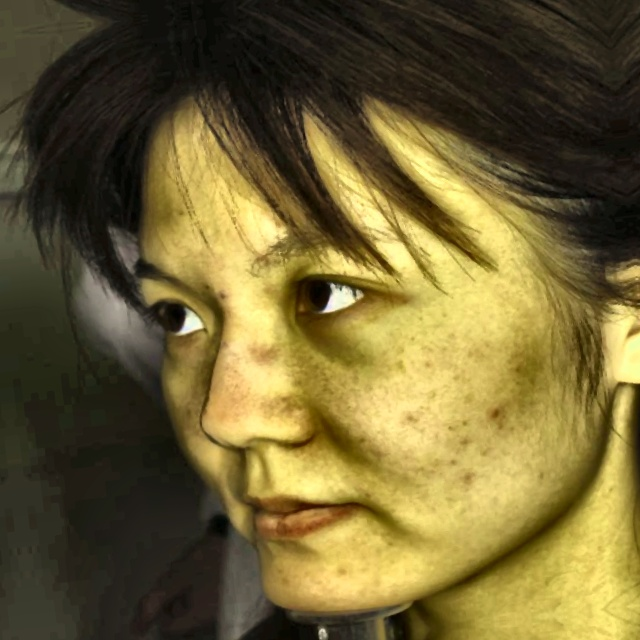comedone: (479, 400, 515, 433)
